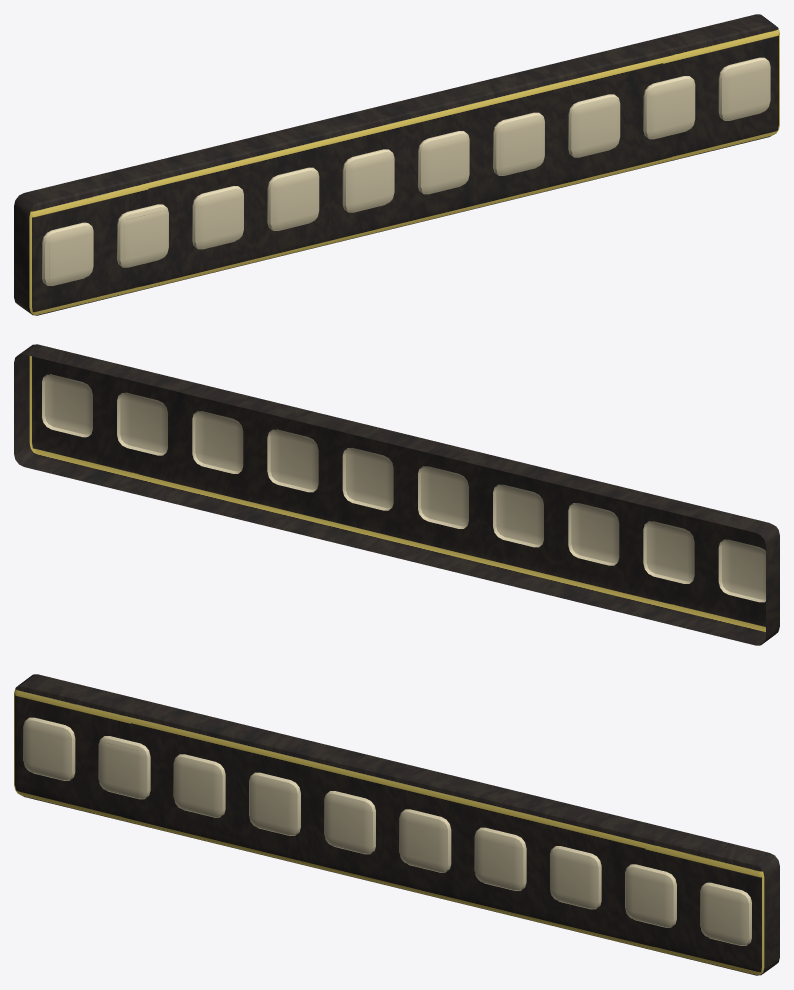
Rendered from LuzElevador.fbx.
3 renders of one model, top to bottom at view 1: azimuth 30°, elevation 25°; view 2: azimuth 150°, elevation 25°; view 3: azimuth 330°, elevation 25°, orthographic.
Parts seen in each view (by area): view 1: Cube.014; view 2: Cube.014; view 3: Cube.014.
Boxes of the visible parts, bbox=[...] form: Cube.014: bbox=[14, 14, 779, 315]; Cube.014: bbox=[14, 344, 779, 645]; Cube.014: bbox=[14, 674, 779, 975].
Bounding box in the file's own units: 217 × 31.03 × 9.34.
